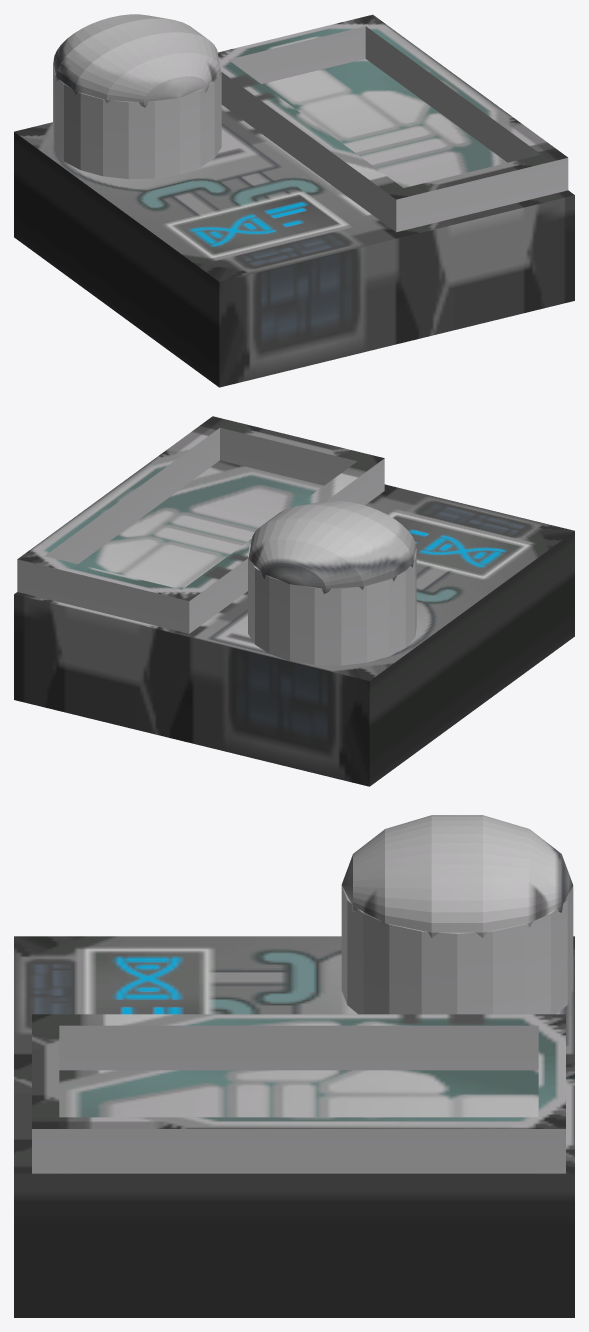
File: Building_GeneExtractor.obj
3 views of the same model, one above another, from view 1: azimuth 30°, elevation 25°; view 2: azimuth 150°, elevation 25°; view 3: azimuth 270°, elevation 25° (orthographic). The views are drawn at different scales.
Visible parts, largest first — view 1: Body; view 2: Body; view 3: Body.
Part boxes in pixels (x1=…): Body: x1=14, y1=14, x2=574, y2=387; Body: x1=14, y1=416, x2=574, y2=786; Body: x1=14, y1=815, x2=574, y2=1317.
Size of the model in its own units: 1.94 by 1.14 by 1.94.
Materials: 1 (1 with a texture image).
